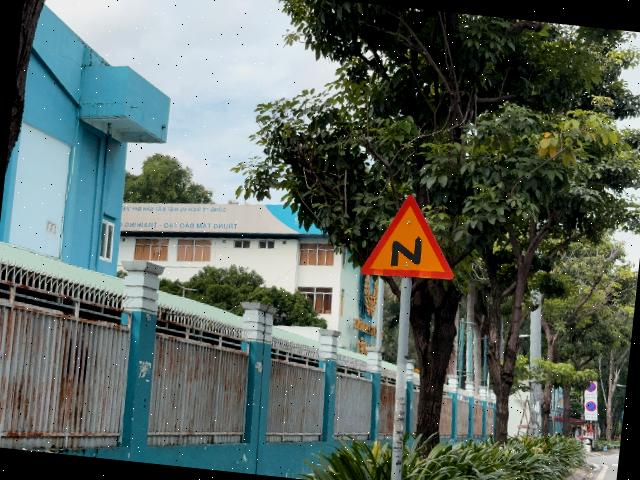nhieu-cho-ngoat-nguy-hiem-lien-tiep: (360, 190, 463, 285)
